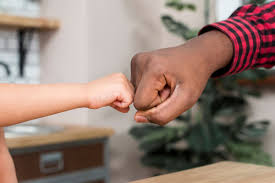no-gloves: (129, 42, 217, 126)
